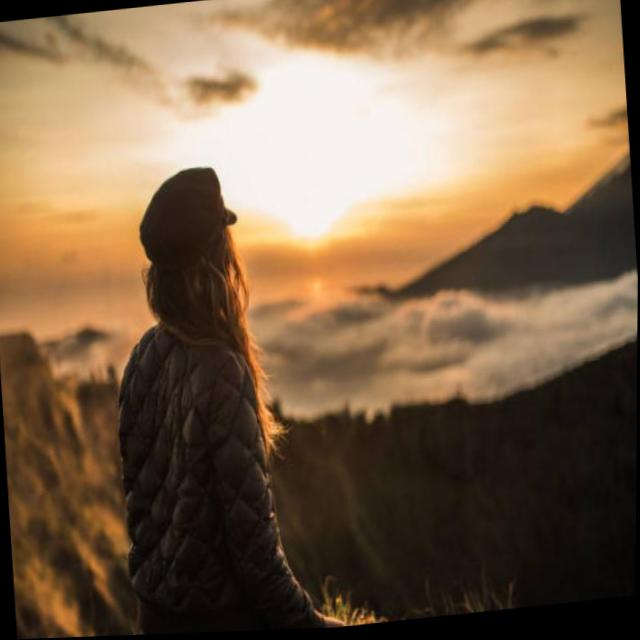no helmet: (120, 150, 268, 364)
